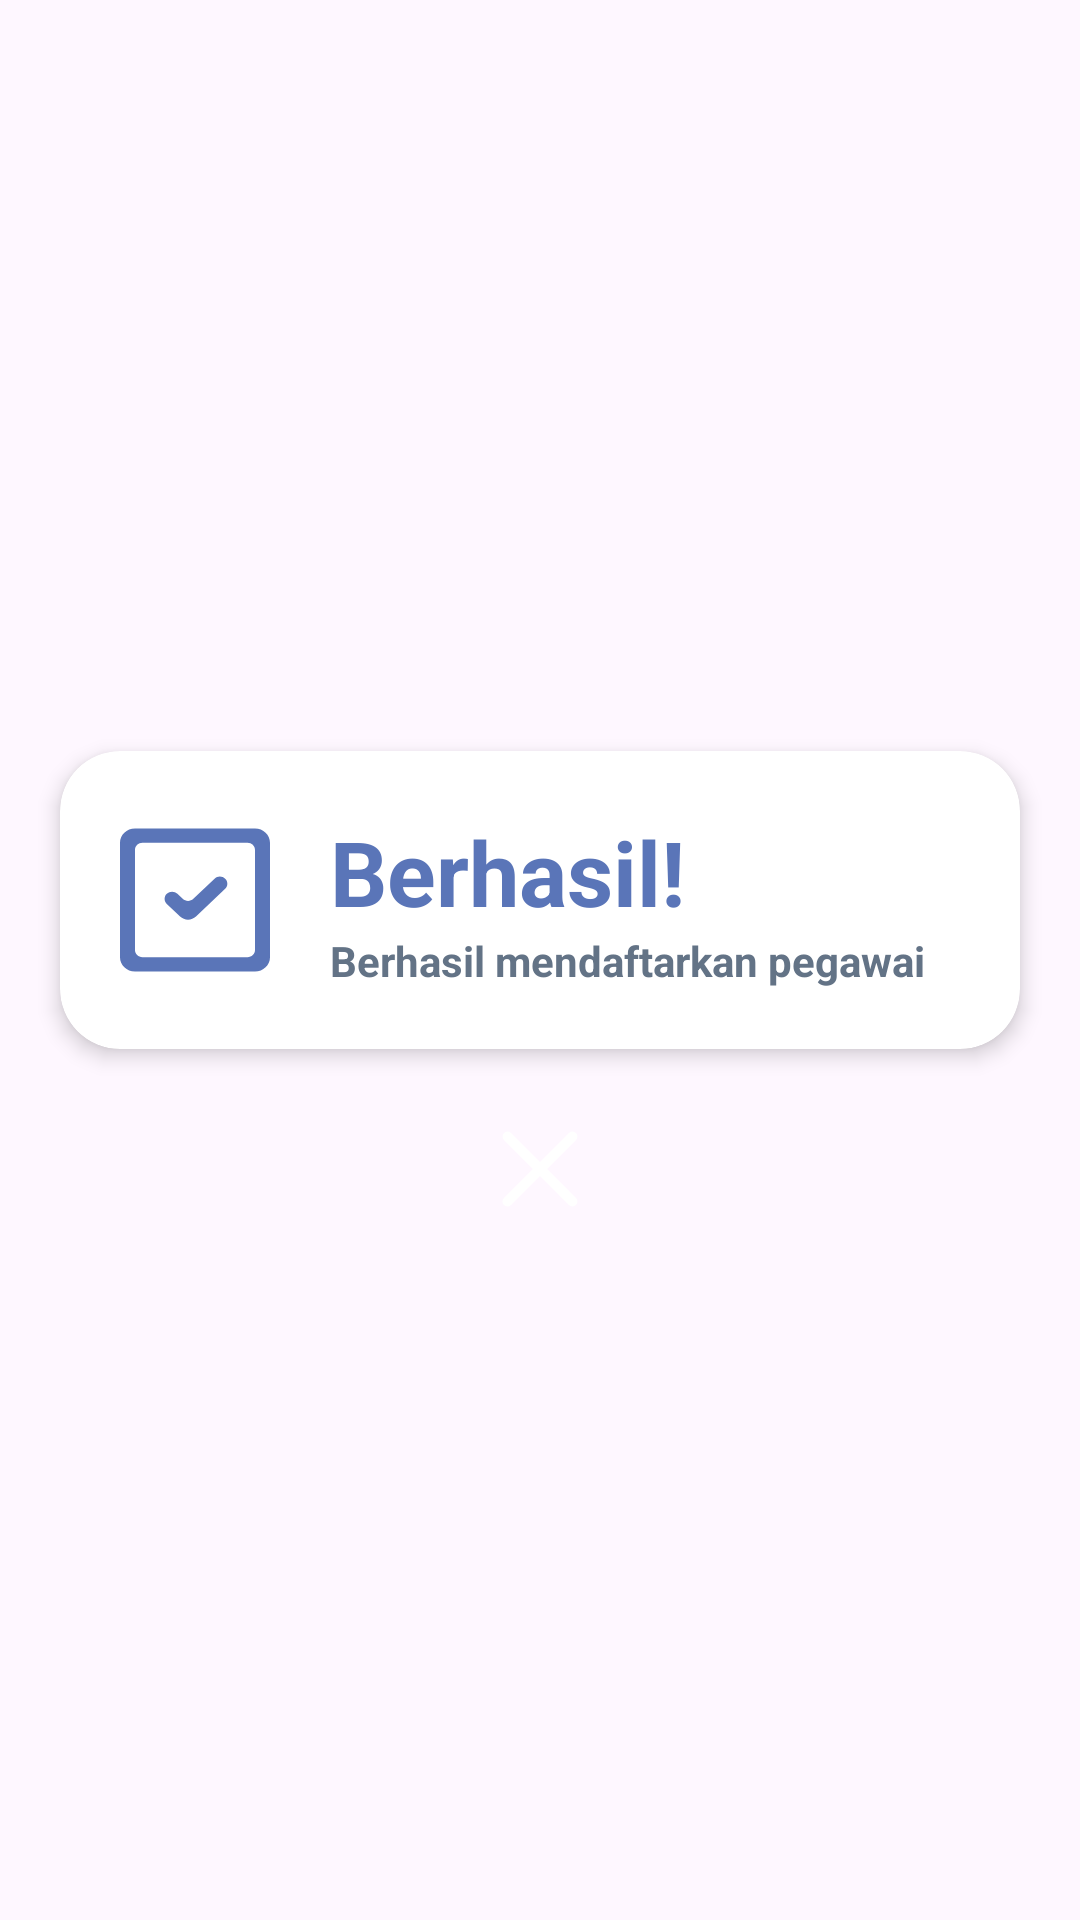

Where to tap for icons on this 1080w x 1920h app screen, as [x,y]:
one finish: [195,900]
